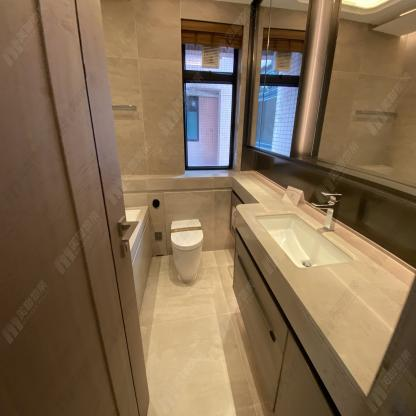Faucet: (312, 189, 343, 237)
Toilet Sink: (236, 201, 400, 289)
